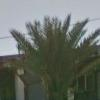Palm tree: (11, 13, 91, 100)
